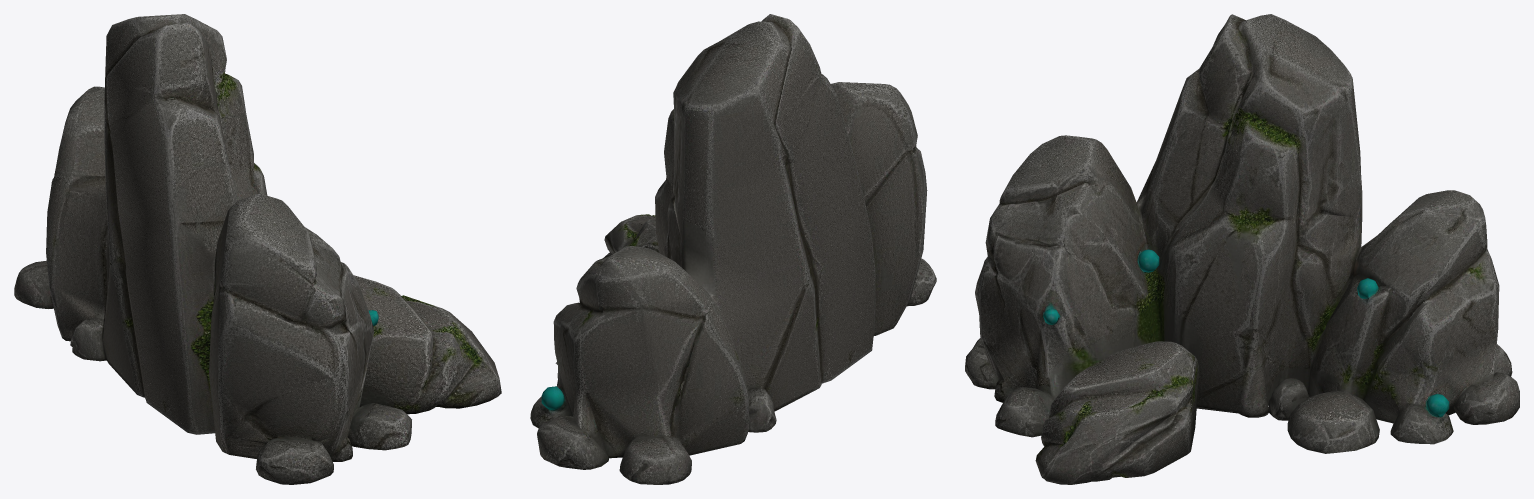
Rendered from tripo_convert_96e654f9-13c5-4447-ad1f-6edb63ae0083.fbx.
3 renders of one model, left to right at view 1: azimuth 30°, elevation 25°; view 2: azimuth 150°, elevation 25°; view 3: azimuth 270°, elevation 25°, orthographic.
Visible parts, largest first — view 1: tripo_node_96e654f9; view 2: tripo_node_96e654f9; view 3: tripo_node_96e654f9.
Part boxes in pixels (x1,y1,x2,y2): tripo_node_96e654f9: (14, 14, 501, 484); tripo_node_96e654f9: (530, 14, 936, 484); tripo_node_96e654f9: (965, 14, 1519, 484).
Bounding box in the file's own units: 0.5957 × 0.7051 × 0.998.
1 material, 1 textured.
